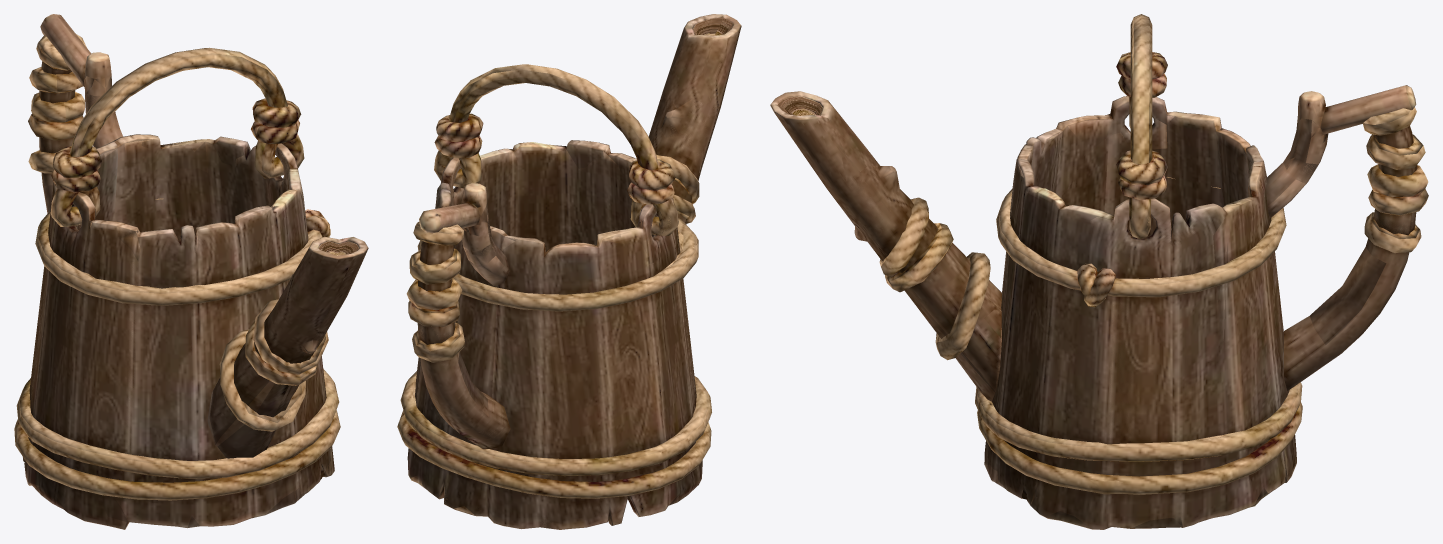
The picture shows the model from 3 angles, left to right: view 1: azimuth 30°, elevation 25°; view 2: azimuth 150°, elevation 25°; view 3: azimuth 270°, elevation 25°; orthographic projection. The views are drawn at different scales.
Visible parts, largest first — view 1: SM_WateringCan_Wood_2H_01_LOD0; view 2: SM_WateringCan_Wood_2H_01_LOD0; view 3: SM_WateringCan_Wood_2H_01_LOD0.
Boxes of the visible parts, x1,y1,x2,y2 form: SM_WateringCan_Wood_2H_01_LOD0: (14,14,368,529); SM_WateringCan_Wood_2H_01_LOD0: (397,14,741,529); SM_WateringCan_Wood_2H_01_LOD0: (770,14,1428,529).
Size of the model in its own units: 0.3506 by 0.4936 by 0.6733.
Materials: 1 (1 with a texture image).
